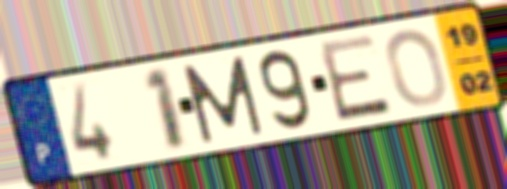1: (142, 64, 193, 153)
4: (67, 79, 120, 164)
9: (256, 48, 313, 131)
E: (315, 31, 396, 124)
M: (179, 53, 267, 147)
O: (383, 26, 450, 109)
